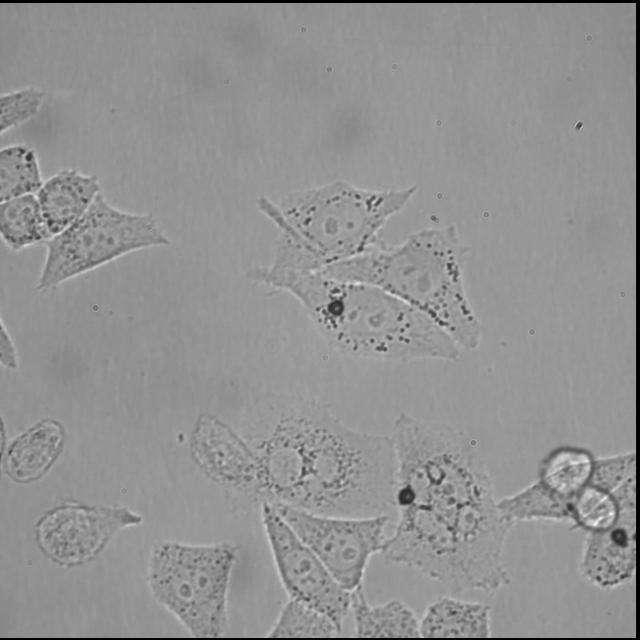microbeads: (397, 480, 418, 508), (324, 298, 346, 320)
